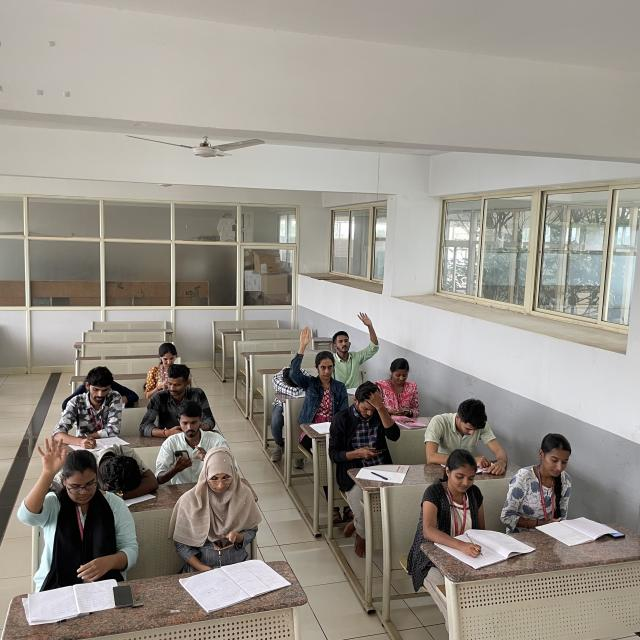Hand Rising: (18, 435, 134, 573), (290, 326, 347, 413), (332, 312, 376, 384)
Reading: (508, 420, 607, 548), (422, 400, 494, 476)
Sleeping: (83, 440, 155, 498), (272, 359, 310, 394)
Using Phone: (172, 444, 255, 564), (329, 382, 396, 460), (157, 404, 213, 484), (376, 360, 425, 416), (143, 344, 189, 399)
Writing: (420, 454, 513, 560), (54, 367, 125, 451)
